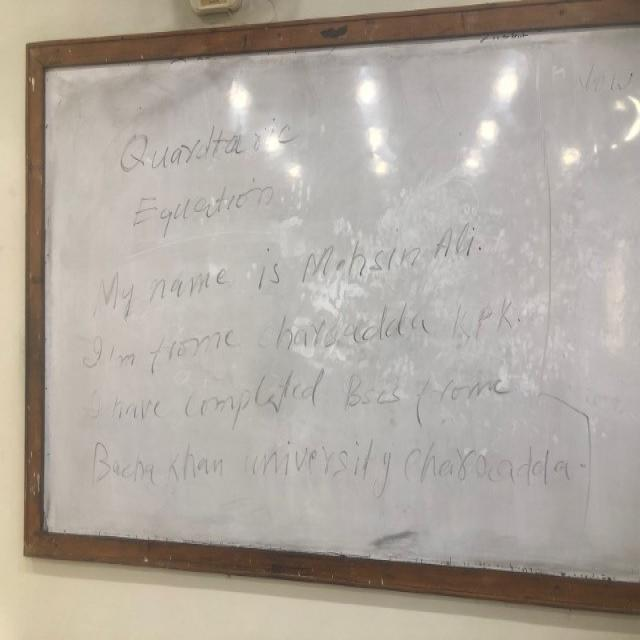White-board: (35, 6, 640, 611)
